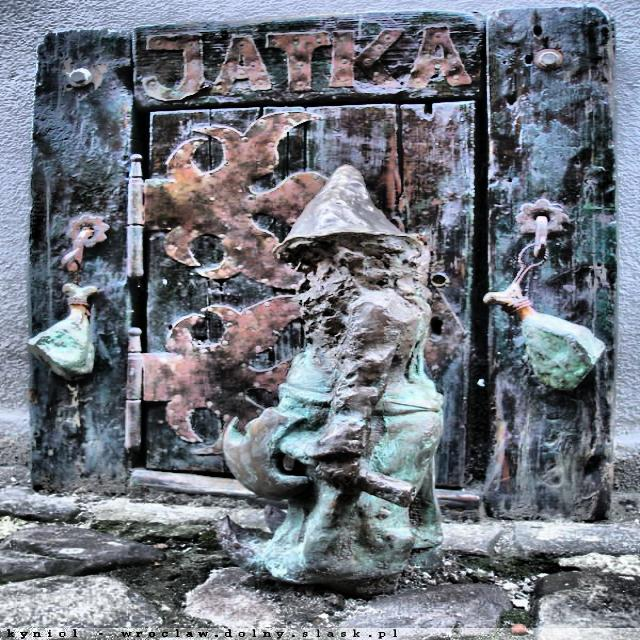Rzeznik: (223, 166, 443, 595)
